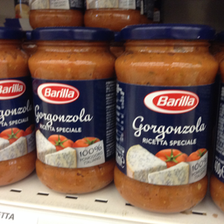tomato_sauce: (113, 25, 218, 216), (26, 26, 116, 196)
